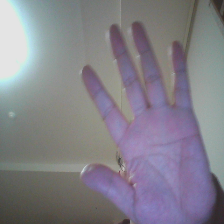hand: (74, 18, 214, 221)
